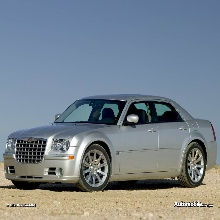no damage: (3, 93, 218, 193)
